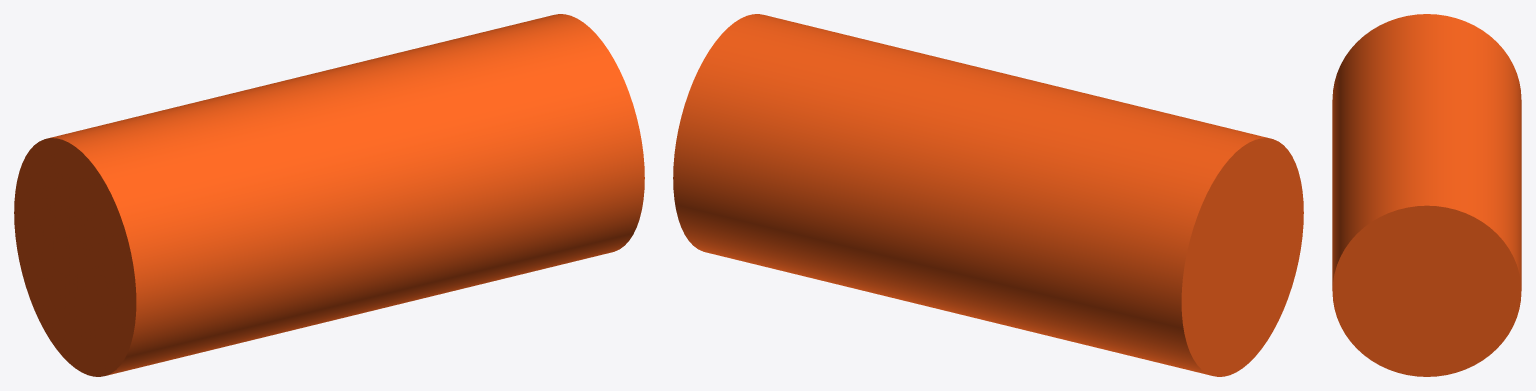
File: Luhand.obj
The picture shows the model from 3 angles, left to right: view 1: azimuth 30°, elevation 25°; view 2: azimuth 150°, elevation 25°; view 3: azimuth 270°, elevation 25°; orthographic projection. The views are drawn at different scales.
Parts seen in each view (by area): view 1: pCylinder5; view 2: pCylinder5; view 3: pCylinder5.
Boxes of the visible parts, x1,y1,x2,y2 form: pCylinder5: [14, 14, 644, 376]; pCylinder5: [673, 14, 1303, 376]; pCylinder5: [1332, 14, 1521, 376].
Bounding box in the file's own units: 1.16 × 0.4814 × 0.4814.
